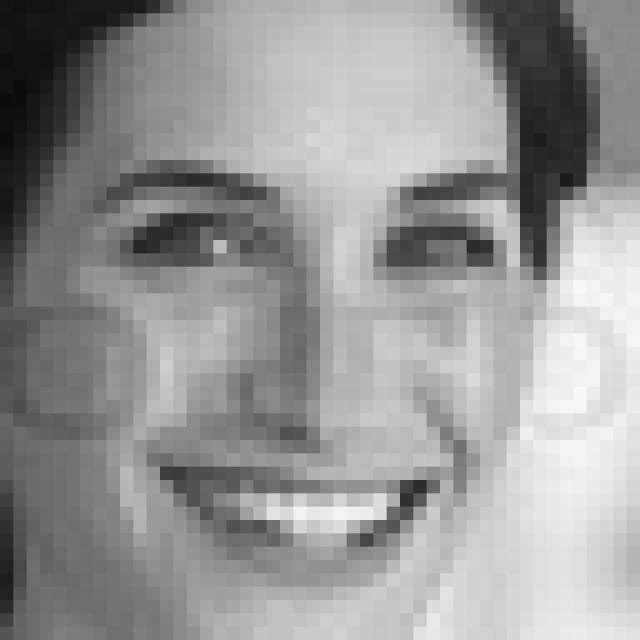happy: (89, 154, 518, 594)
